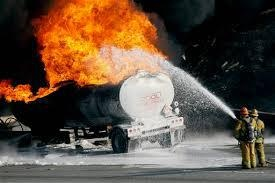fire: (28, 0, 170, 90)
